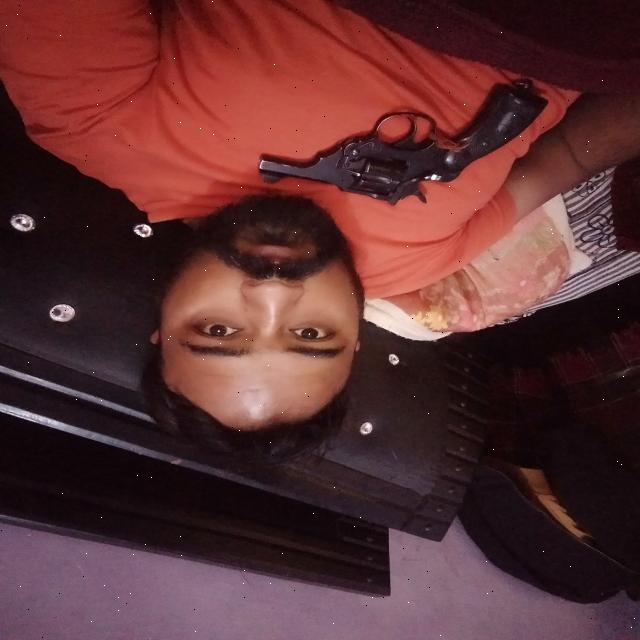gun: (242, 62, 566, 212)
